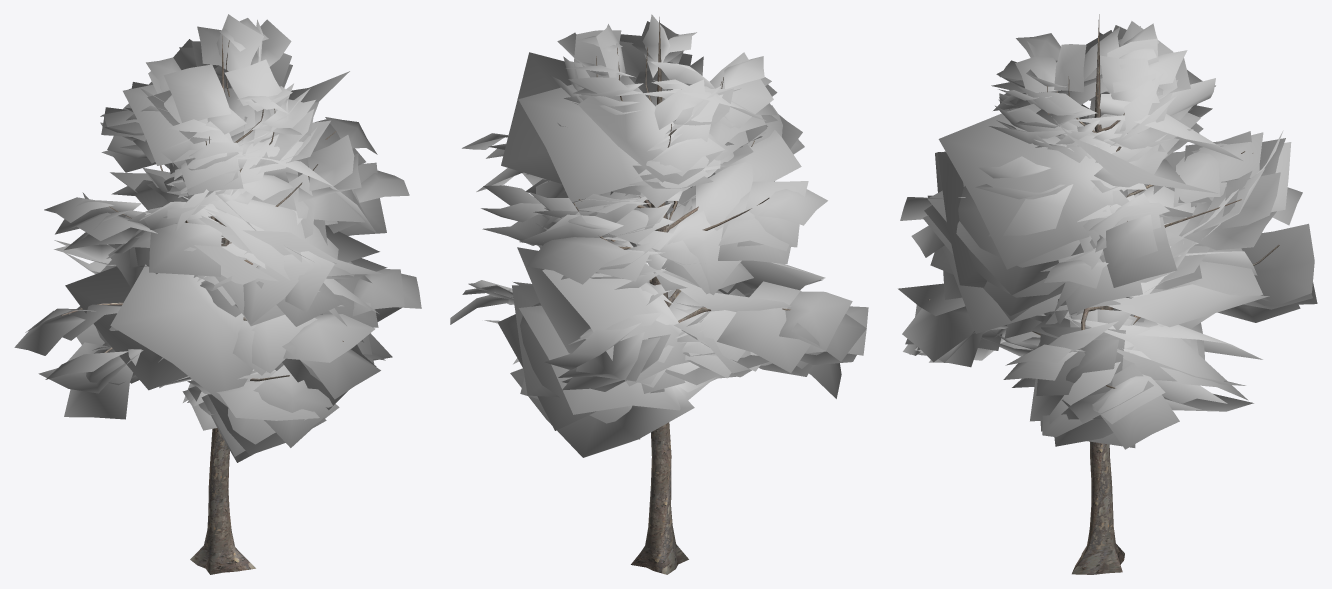
Rendered from platanus.fbx.
The picture shows the model from 3 angles, left to right: view 1: azimuth 30°, elevation 25°; view 2: azimuth 150°, elevation 25°; view 3: azimuth 270°, elevation 25°; orthographic projection. The views are drawn at different scales.
Visible parts, largest first — view 1: platanus_LOD0; view 2: platanus_LOD0; view 3: platanus_LOD0.
Part boxes in pixels (x1,y1,x2,y2): platanus_LOD0: (14,14,421,574); platanus_LOD0: (450,14,868,574); platanus_LOD0: (898,14,1317,574).
Size of what is drawn, in the model's own units: 13.08 by 17.43 by 12.07.
